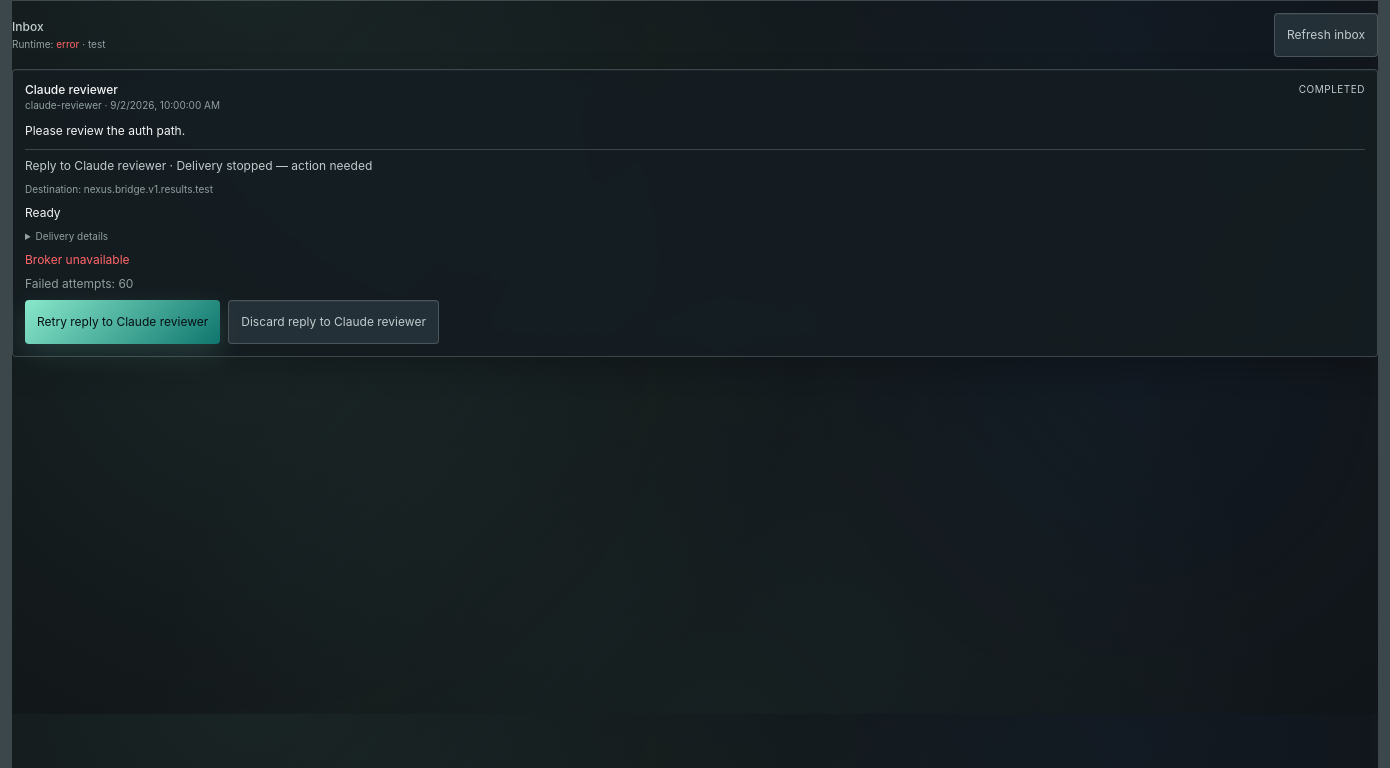
it: stops promising automatic retries and offers explicit Retry and Discard for dead letters
This screenshot has width=1390, height=768.
Check: the text "Reply to Claude reviewer · Delivery stopped — action needed" is shown, box [25,158,372,172]
Click the button "Retry reply to Claude reviewer" at (123, 322), box [25,300,220,344]
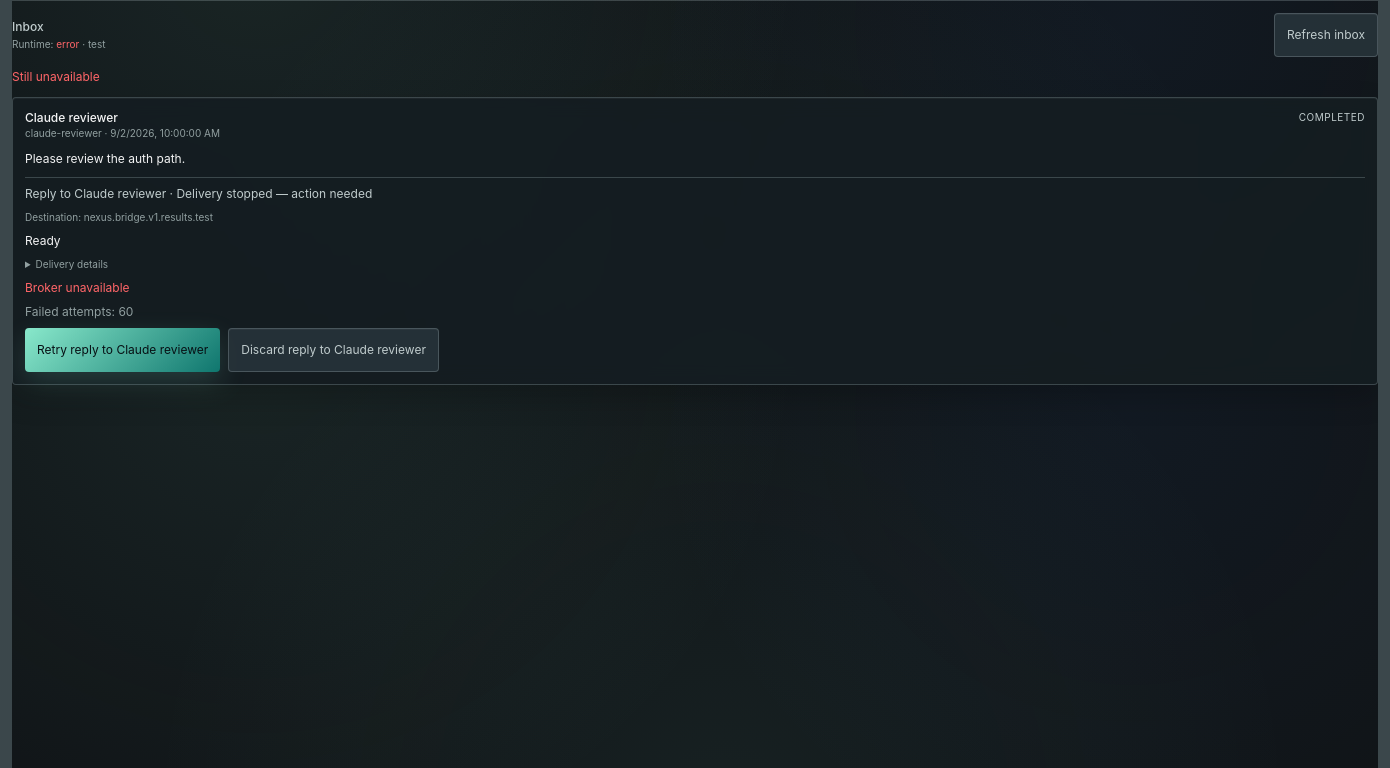
Check: the message reads "Still unavailable", box [12,69,100,84]
Click the button "Discard reply to Claude reviewer" at (334, 350), box [228,328,439,372]
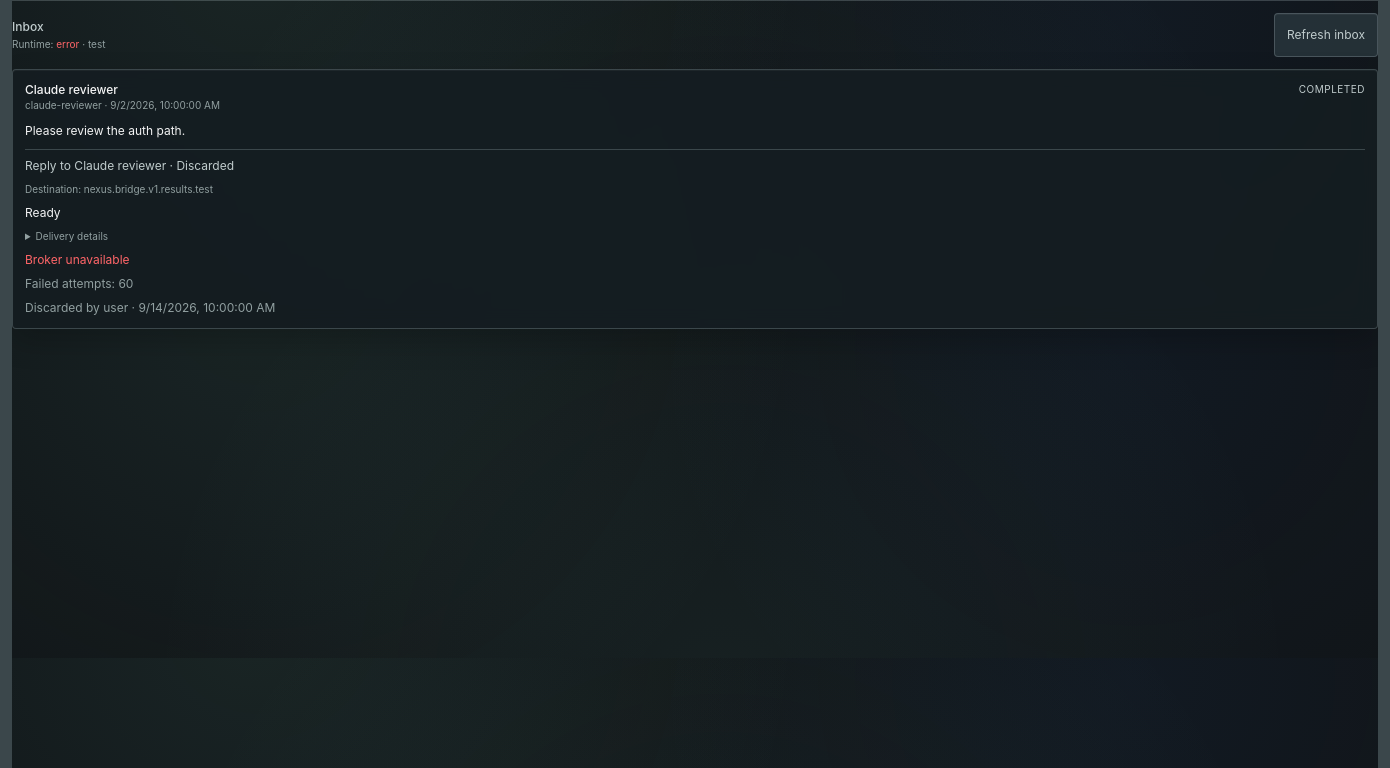
Check: the text "Discarded by user · 9/14/2026, 10:00:00 AM" is shown, box [25,300,275,314]
Check: the button "Retry reply" is gone
